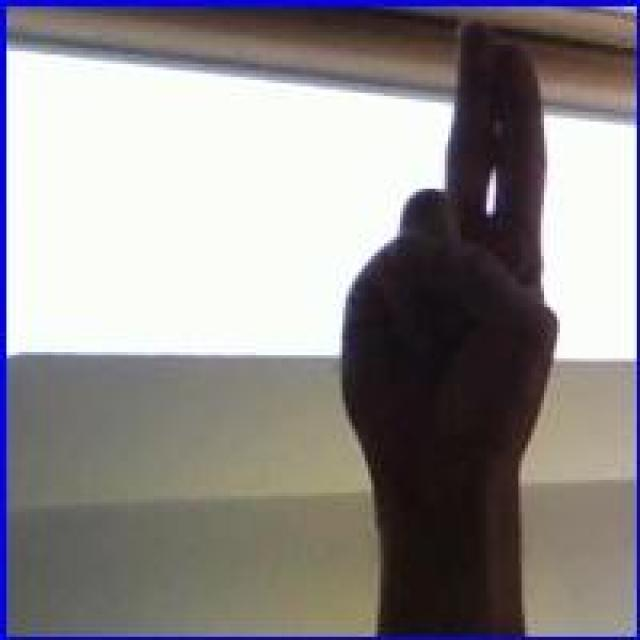U: (338, 18, 562, 491)
